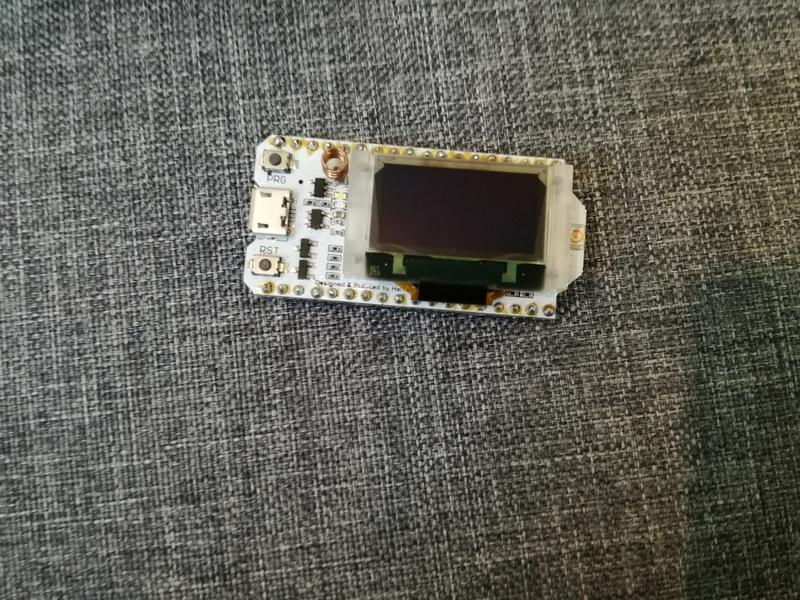Heltec_ESP32_Lora: (240, 130, 590, 329)
